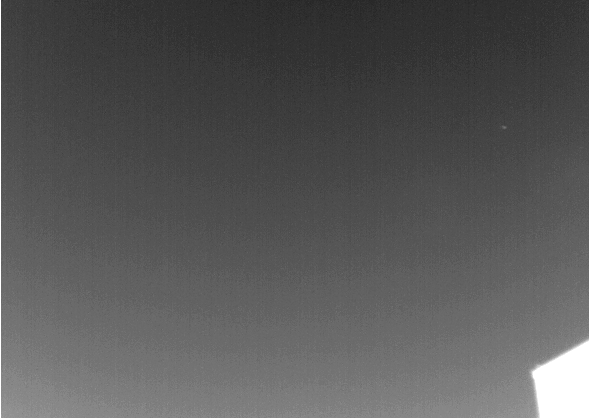dim target: (501, 125, 507, 129)
